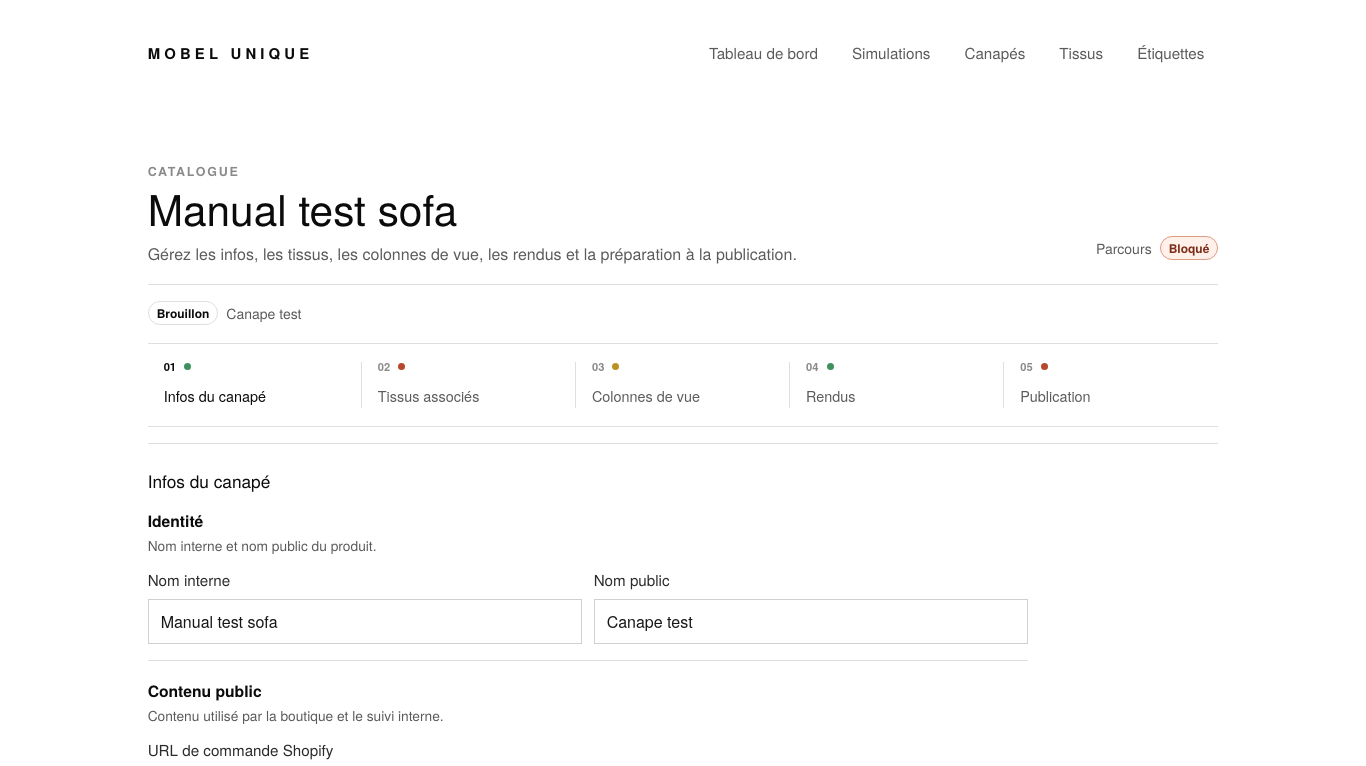
Test: Admin catalog pages › deletes only an unselected candidate from the review list
Check: the heading "Manual test sofa" is shown, box [148,178,457,240]
Click the tab "04 Rendus".
click(897, 385)  # box [790,358,1004,412]
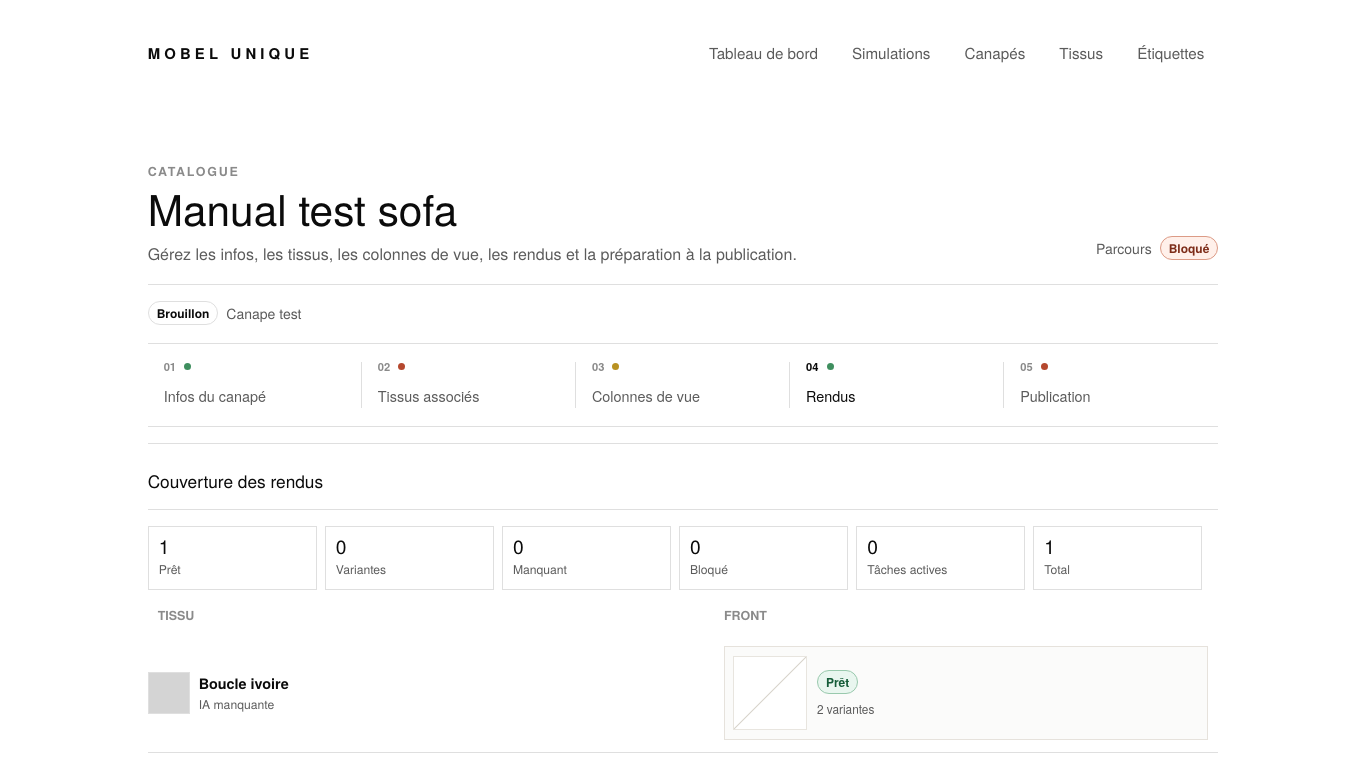
Click the button with aria-label "Boucle ivoire, Front : Prêt".
click(770, 693)  # box [724,646,1208,740]
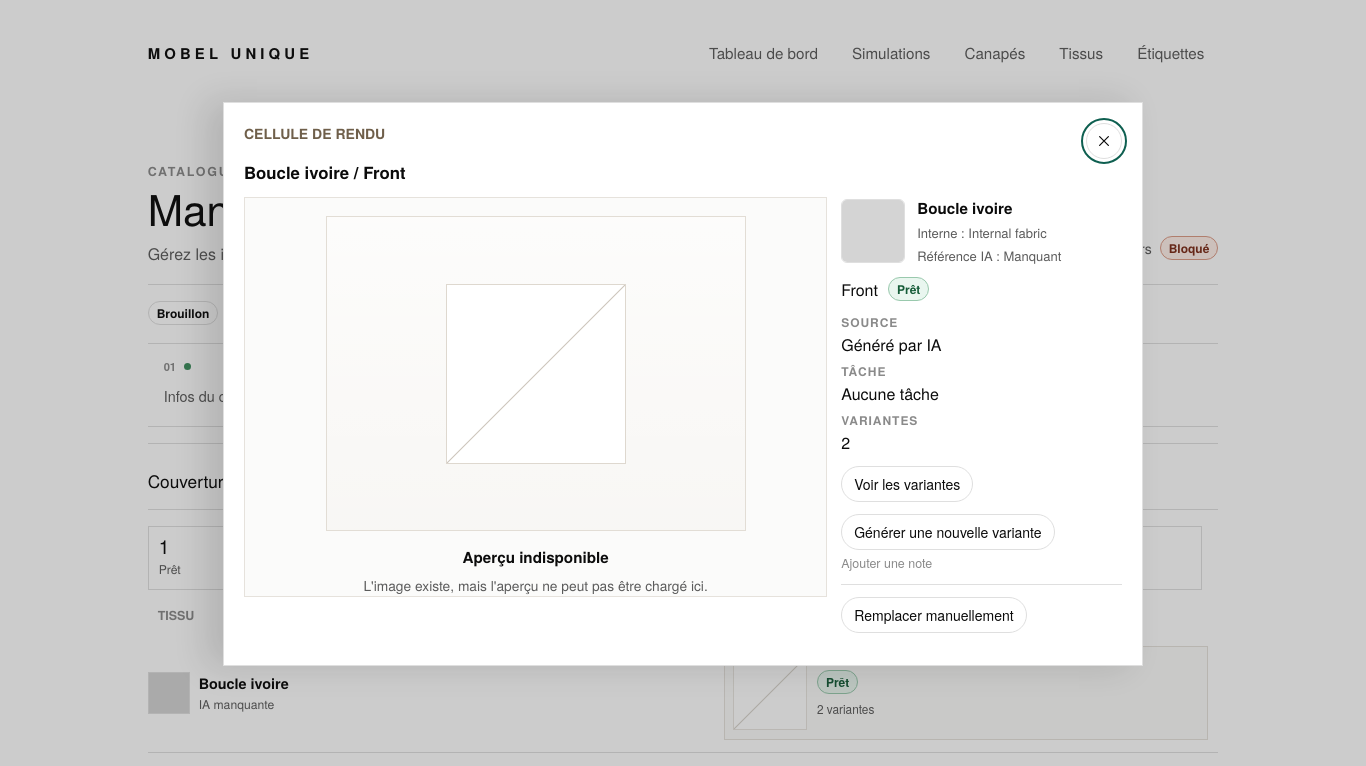
Click the button "Voir les variantes".
click(907, 484)  # box [841,466,973,502]
(page scrolled)
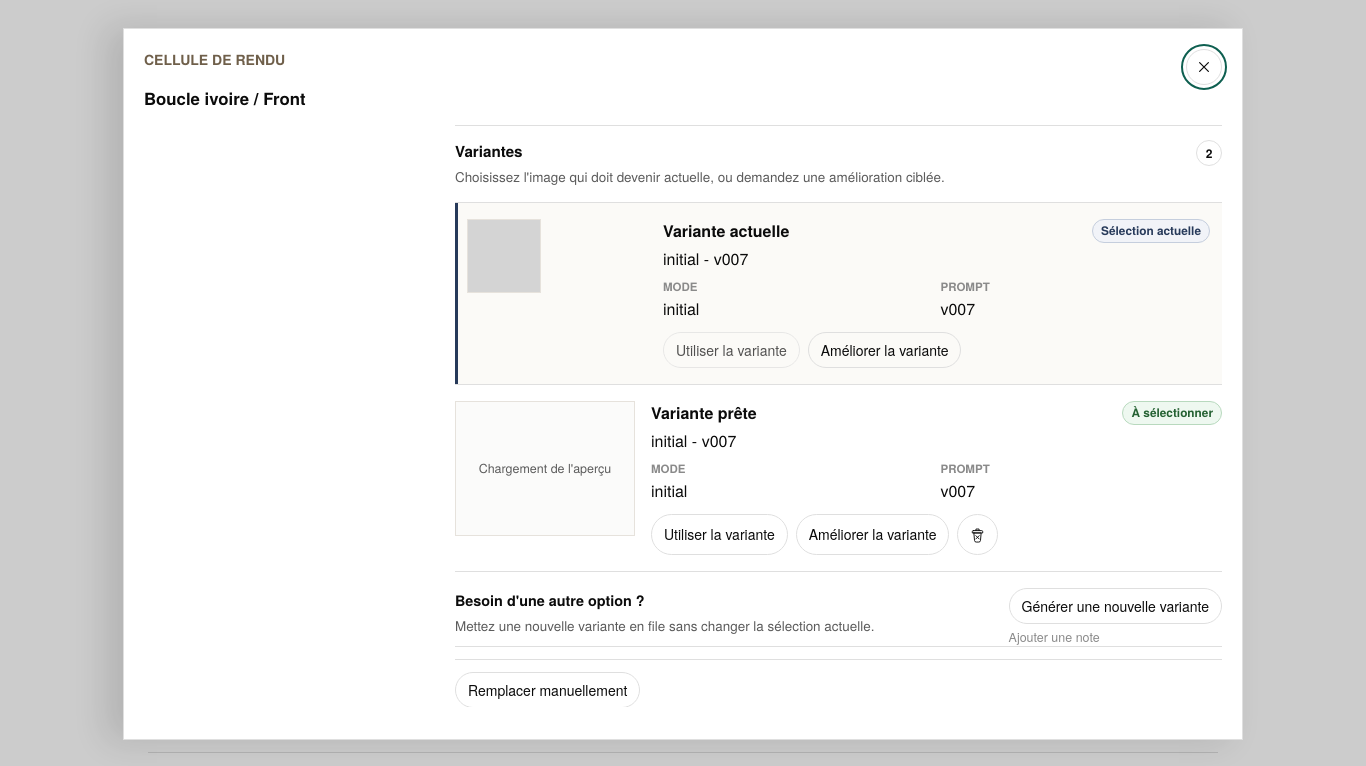
Click the button named "Supprimer la variante 00000000-0000-4000-8000-000000000909".
click(978, 534)  # box [958,514,998,555]
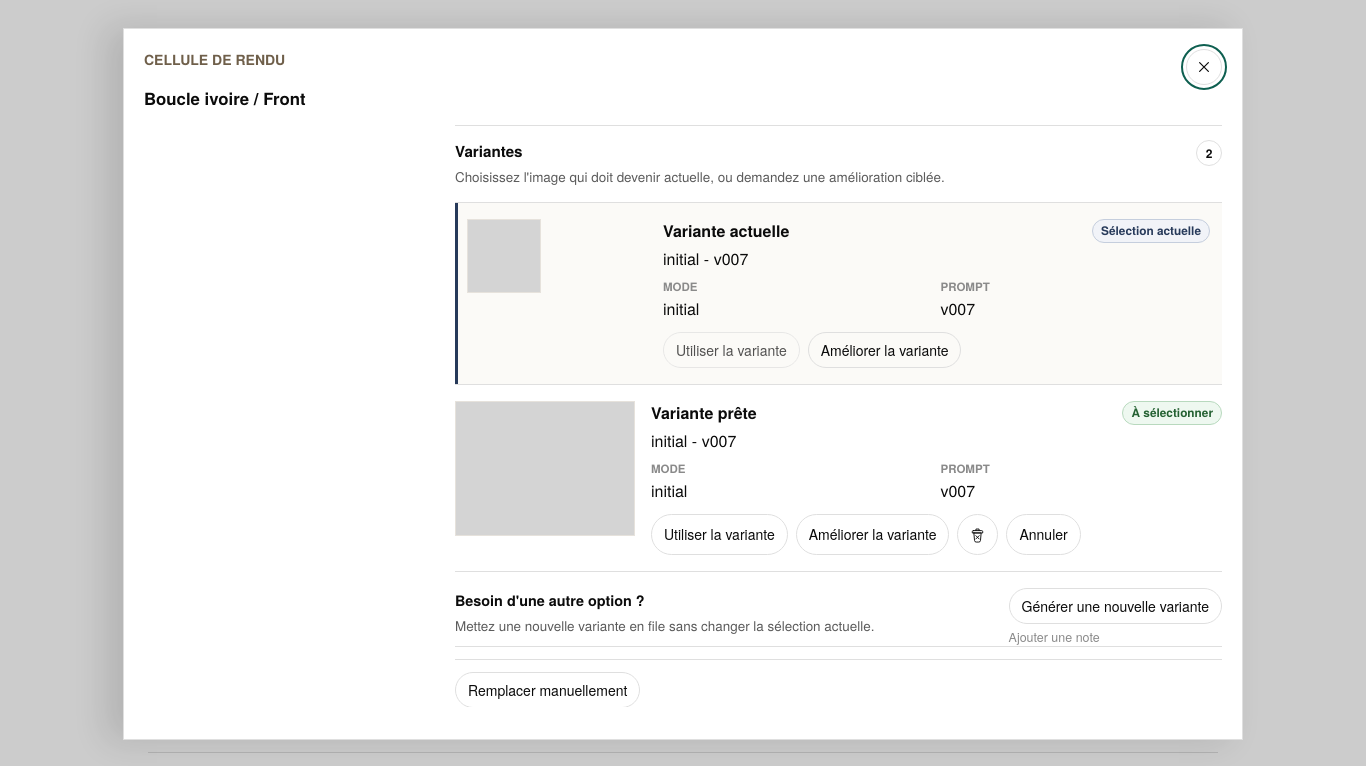
Click the button named "Confirmer la suppression de la variante 00000000-0000-4000-8".
click(978, 534)  # box [958,514,998,555]
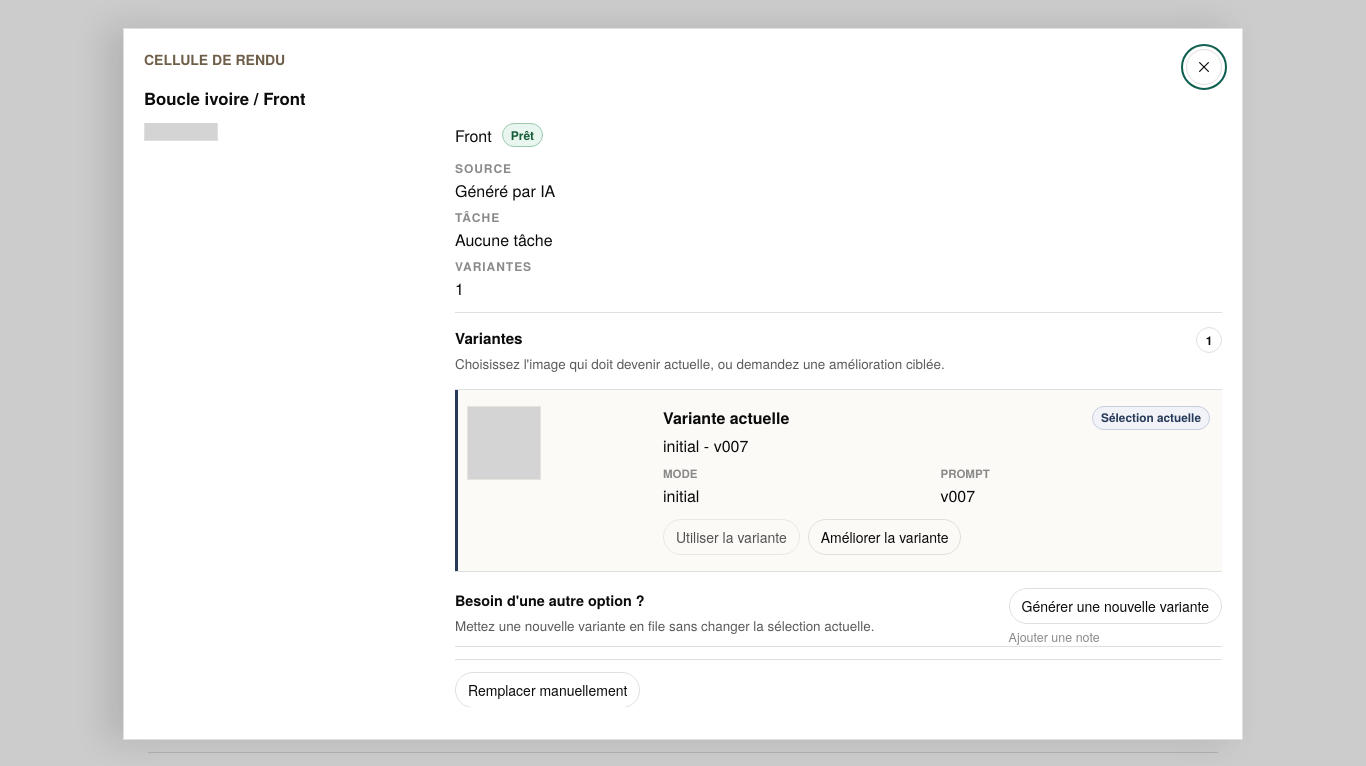
Check: the element named "Variante 00000000-0000-4000-8000-000000000908" is shown, box [455,390,1222,571]
Check: the 2nd text "1" is shown, box [1196,327,1222,353]
